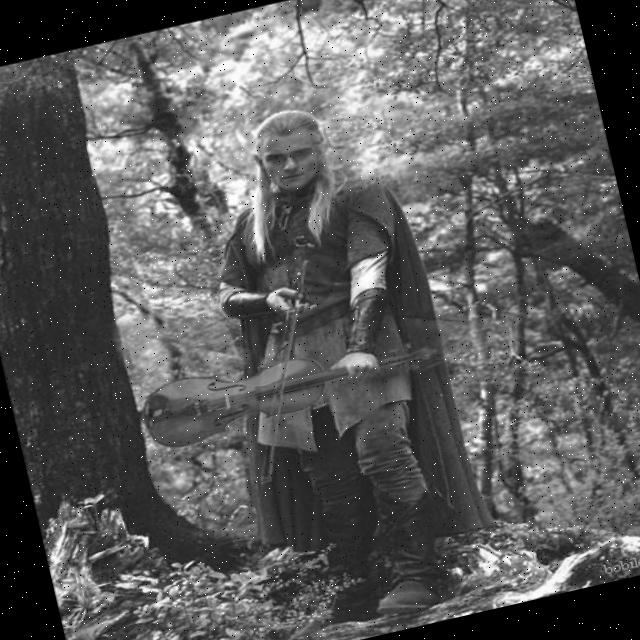violin: (134, 317, 452, 456)
